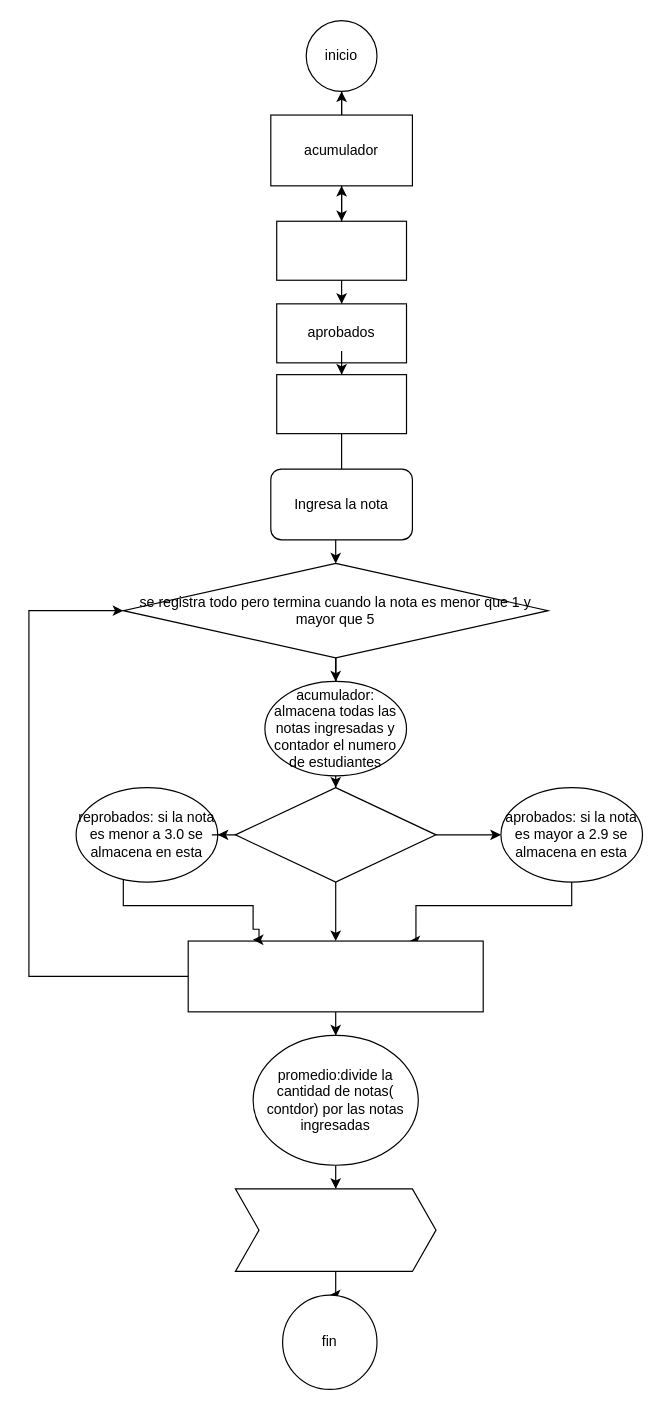
This 663x1410 diagram has some shape labels left out. Here are the shapes that lost their labels. From the top down, the box of each, then its label:
(276, 220, 407, 280): contador
(276, 373, 407, 434): reprobados
(234, 786, 436, 882): si la nota es aprobada
(187, 940, 483, 1012): se repite hasta que la se cumpla la condicion
(234, 1188, 436, 1271): imprimir: muestra la el promedio la cantidad de aprobados y reprobados
